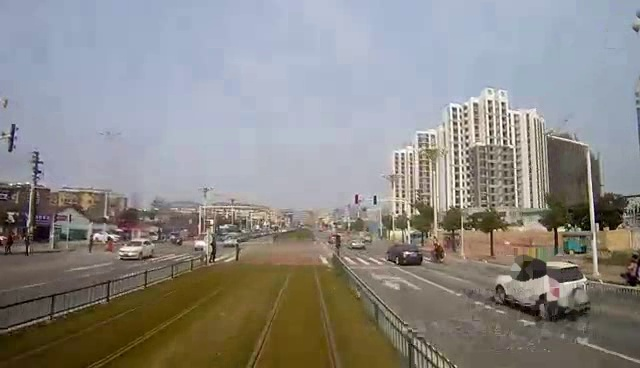car: (493, 259, 598, 317), (383, 241, 431, 269), (116, 235, 163, 262), (349, 234, 369, 250)
